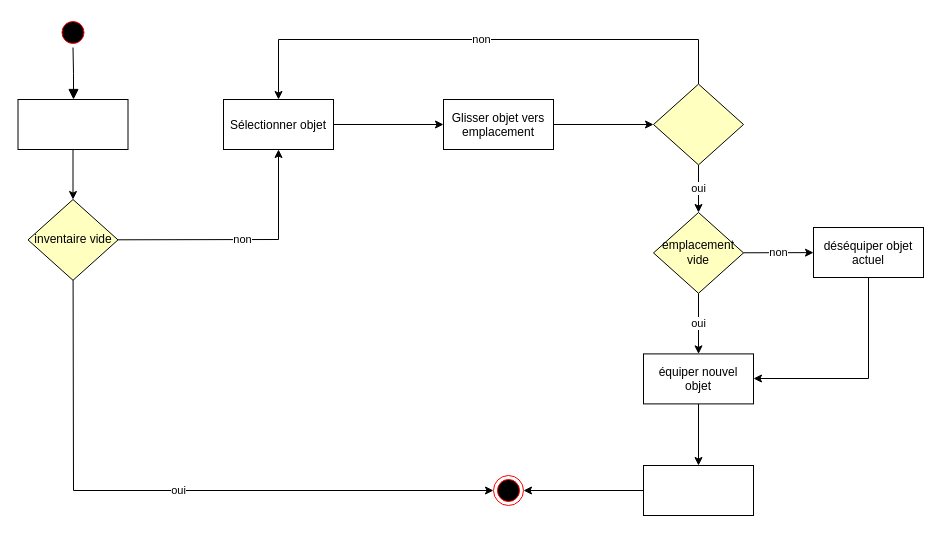
This 941x533 diagram has some shape labels left out. Here are the shapes that lost their labels. From the top down, the box of each, then its label:
(17, 98, 128, 150): Accéder à l'inventaire
(652, 83, 744, 165): type objet = type emplacement
(642, 464, 754, 516): modification statistiques personnage
